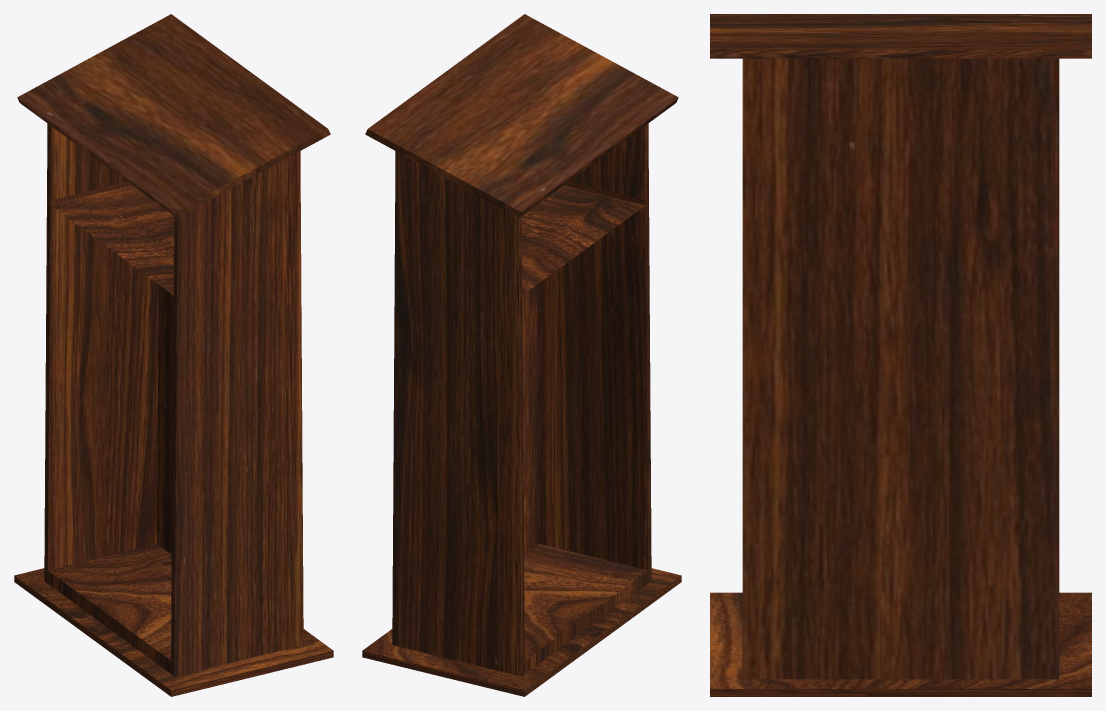
File: Low_Poly_Podium.glb
3 views of the same model, side by side, from view 1: azimuth 30°, elevation 25°; view 2: azimuth 150°, elevation 25°; view 3: azimuth 270°, elevation 25° (orthographic). The views are drawn at different scales.
Visible parts, largest first — view 1: unnamed (×4); view 2: unnamed (×4); view 3: unnamed (×3).
Part boxes in pixels (<box>): unnamed (×4): <box>14,14,333,696</box>; unnamed (×4): <box>362,14,681,696</box>; unnamed (×3): <box>710,14,1091,696</box>.
Size of the model in its own units: 1.72 by 5.36 by 2.88.
1 material, 1 textured.
